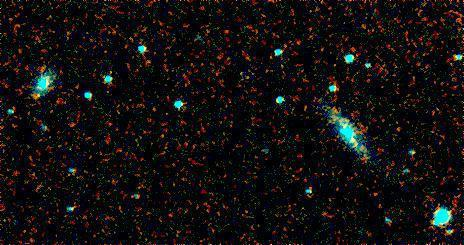star: (24, 81, 54, 111)
